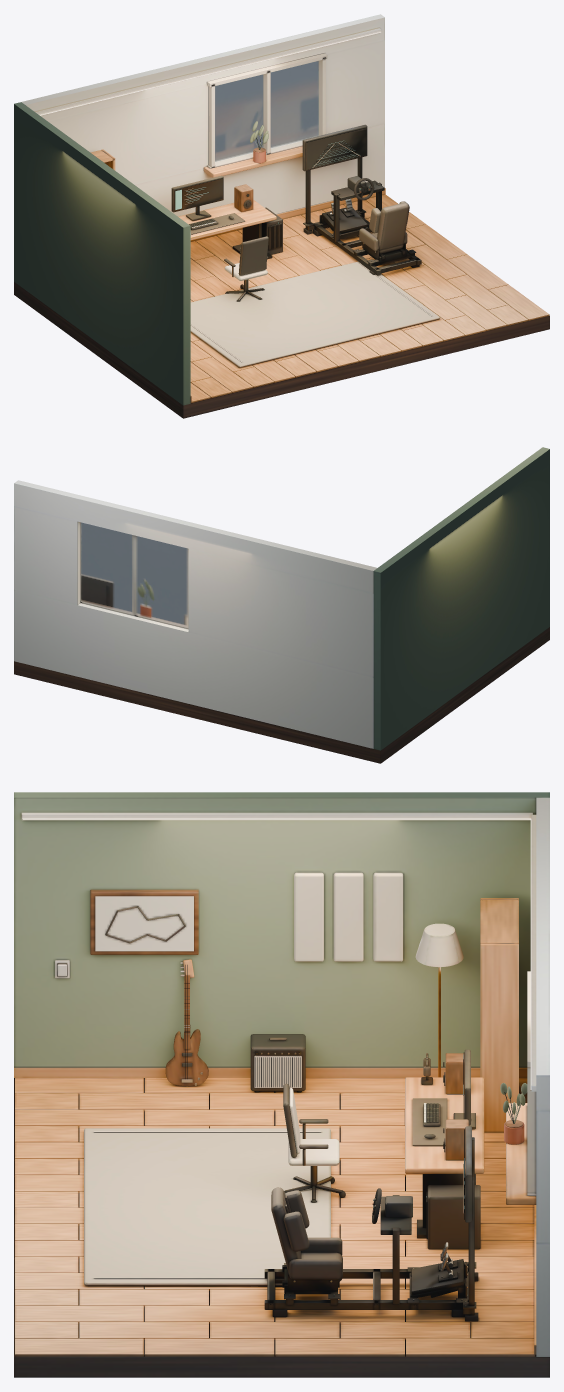
Rendered from room-baked-preview.glb.
The picture shows the model from 3 angles, top to bottom: view 1: azimuth 30°, elevation 25°; view 2: azimuth 150°, elevation 25°; view 3: azimuth 270°, elevation 25°; orthographic projection. The views are drawn at different scales.
Visible parts, largest first — view 1: Room_Baked_Static; view 2: Room_Baked_Static; view 3: Room_Baked_Static.
Part boxes in pixels (x1,y1,x2,y2): Room_Baked_Static: (14, 14, 549, 418); Room_Baked_Static: (14, 447, 549, 763); Room_Baked_Static: (14, 792, 549, 1377).
Bounding box in the file's own units: 6.93 × 3.45 × 5.54.
1 material, 1 textured.
